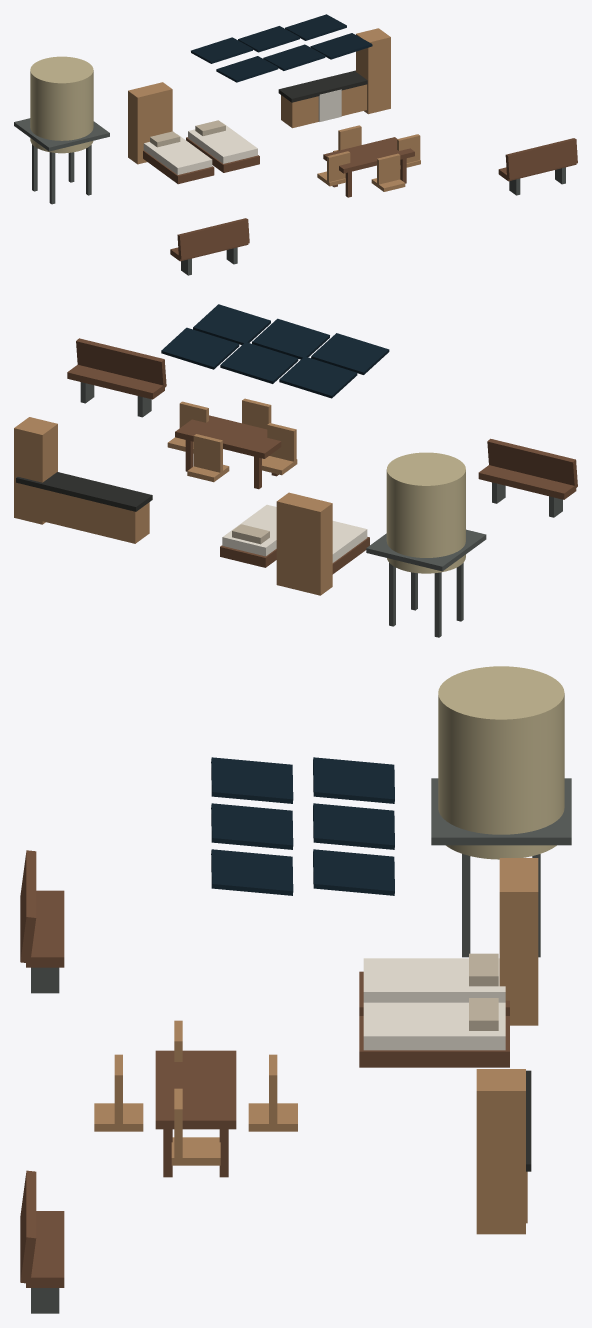
The model's file is eden-architectural-assets.glb.
3 renders of one model, top to bottom at view 1: azimuth 30°, elevation 25°; view 2: azimuth 150°, elevation 25°; view 3: azimuth 270°, elevation 25°, orthographic. The views are drawn at different scales.
Parts seen in each view (by area): view 1: WaterTankBody, BedroomCupboard, KitchenTallUnit, BenchBack1, BenchBack2, KitchenBaseUnits, BedroomMattress2, BedroomMattress1, DiningTableTop, KitchenWorktop, WaterTankPlatform, SolarPanel4 (+15 smaller); view 2: WaterTankBody, BedroomCupboard, KitchenBaseUnits, KitchenTallUnit, BenchBack1, BenchBack2, DiningTableTop, KitchenWorktop, SolarPanel3, SolarPanel2, SolarPanel1, SolarPanel4 (+16 smaller); view 3: WaterTankBody, KitchenTallUnit, BedroomCupboard, DiningTableTop, BedroomMattress2, BedroomMattress1, SolarPanel6, SolarPanel4, SolarPanel5, SolarPanel1, SolarPanel2, SolarPanel3 (+12 smaller).
Boxes of the visible parts, x1,y1,x2,y2 form: WaterTankBody: [30, 56, 93, 153]; BedroomCupboard: [128, 82, 172, 164]; KitchenTallUnit: [356, 28, 390, 114]; BenchBack1: [177, 218, 249, 259]; BenchBack2: [505, 138, 577, 179]; KitchenBaseUnits: [281, 84, 366, 128]; BedroomMattress2: [188, 122, 257, 163]; BedroomMattress1: [143, 134, 212, 174]; DiningTableTop: [323, 137, 414, 173]; KitchenWorktop: [278, 70, 367, 102]; WaterTankPlatform: [14, 118, 109, 151]; SolarPanel4: [216, 56, 278, 82]; WaterTankBody: [386, 452, 465, 573]; BedroomCupboard: [276, 492, 332, 595]; KitchenBaseUnits: [19, 483, 149, 543]; KitchenTallUnit: [14, 417, 57, 524]; BenchBack1: [487, 438, 577, 488]; BenchBack2: [76, 338, 166, 388]; DiningTableTop: [175, 415, 281, 458]; KitchenWorktop: [16, 472, 152, 511]; SolarPanel3: [161, 327, 239, 369]; SolarPanel2: [220, 342, 298, 383]; SolarPanel1: [279, 356, 357, 398]; SolarPanel4: [311, 333, 389, 374]; WaterTankBody: [438, 666, 564, 859]; KitchenTallUnit: [476, 1069, 525, 1234]; BedroomCupboard: [499, 858, 538, 1025]; DiningTableTop: [155, 1050, 236, 1129]; BedroomMattress2: [363, 1002, 505, 1050]; BedroomMattress1: [363, 958, 505, 1002]; SolarPanel6: [211, 849, 293, 895]; SolarPanel4: [211, 757, 293, 803]; SolarPanel5: [211, 803, 293, 849]; SolarPanel1: [313, 757, 394, 803]; SolarPanel2: [313, 803, 394, 849]; SolarPanel3: [313, 849, 394, 895].
Bounding box in the file's own units: 14.02 × 4.5 × 7.85.
